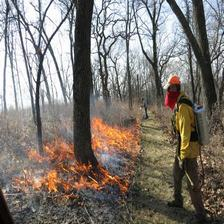fire: (20, 110, 143, 196)
